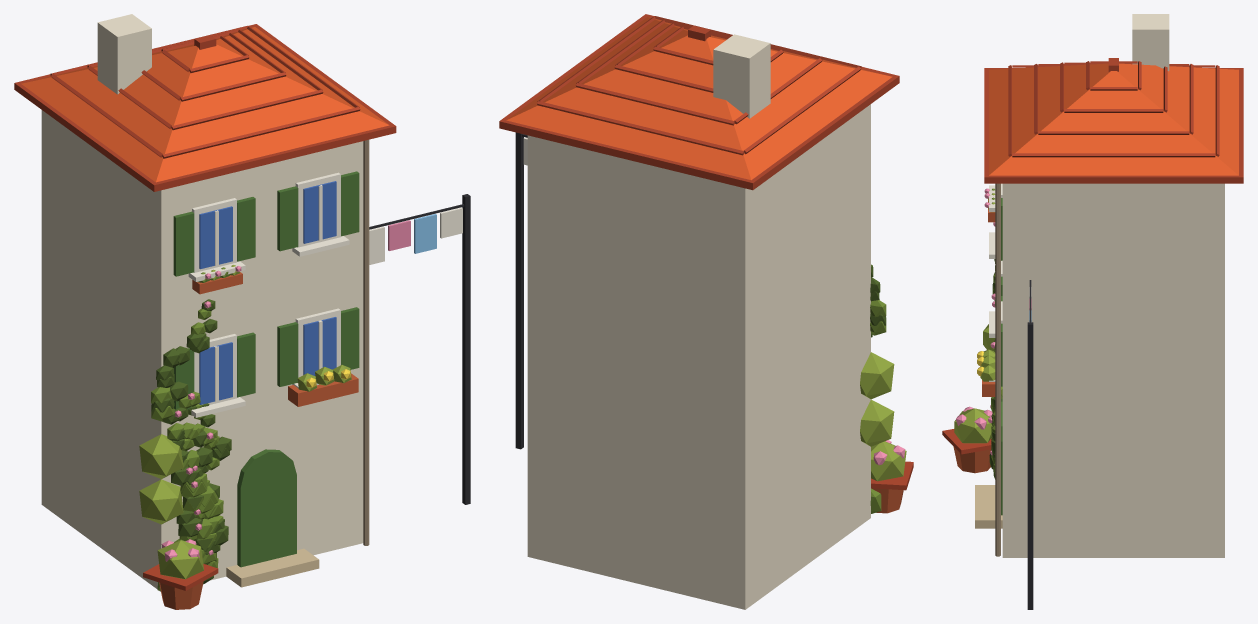
The model's file is townhouse_white.glb.
3 renders of one model, left to right at view 1: azimuth 30°, elevation 25°; view 2: azimuth 150°, elevation 25°; view 3: azimuth 270°, elevation 25°, orthographic. The views are drawn at different scales.
Visible parts, largest first — view 1: townhouse_white; view 2: townhouse_white; view 3: townhouse_white.
Boxes of the visible parts, x1,y1,x2,y2 form: townhouse_white: [14, 14, 470, 609]; townhouse_white: [499, 14, 913, 609]; townhouse_white: [942, 14, 1243, 609].
Size of the model in its own units: 8.06 by 11.06 by 6.5.
